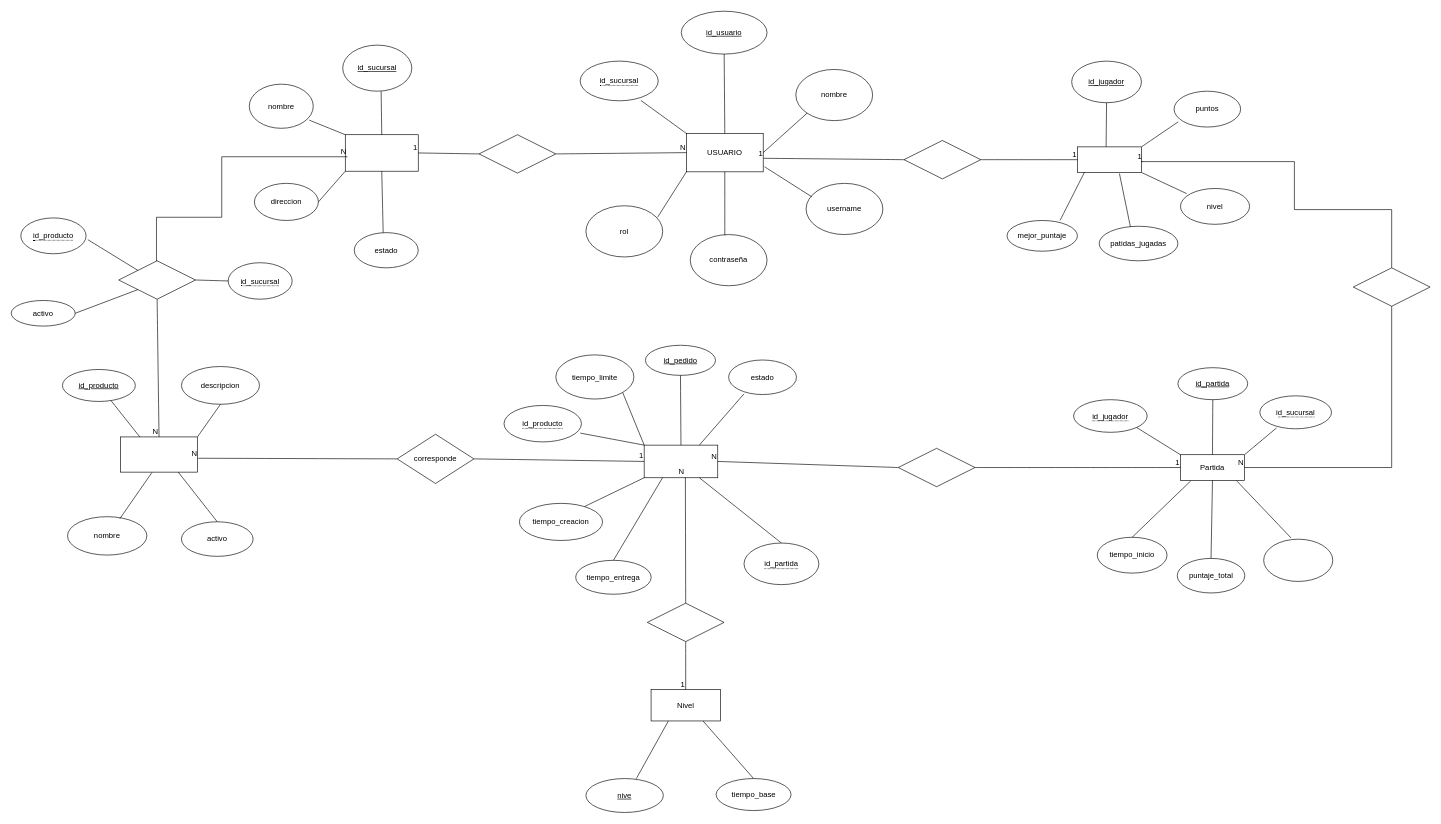
Some shapes in this 1441 by 824 pixel diagram are drawn without their labels. The shapes that lost their labels are listed below. From the top down, each one's box as (x1, y1, x2, y2) in pixels, then its label:
(345, 134, 418, 171): Sucursal
(478, 134, 556, 173): Trabaja
(903, 140, 981, 179): es
(1077, 146, 1141, 172): Jugador
(118, 260, 196, 299): ofrece
(1353, 267, 1430, 306): juega
(120, 436, 197, 472): Producto
(644, 444, 718, 478): Pedido
(898, 448, 975, 487): genera
(1263, 539, 1333, 581): nivel_alcanzado
(647, 603, 724, 642): define_tiempo
